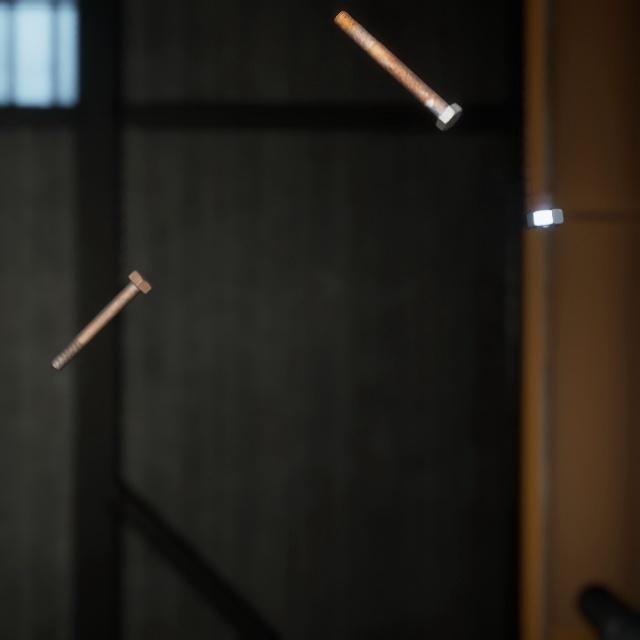bolt: (329, 0, 466, 125), (46, 246, 157, 357)
nut: (521, 188, 567, 217)
